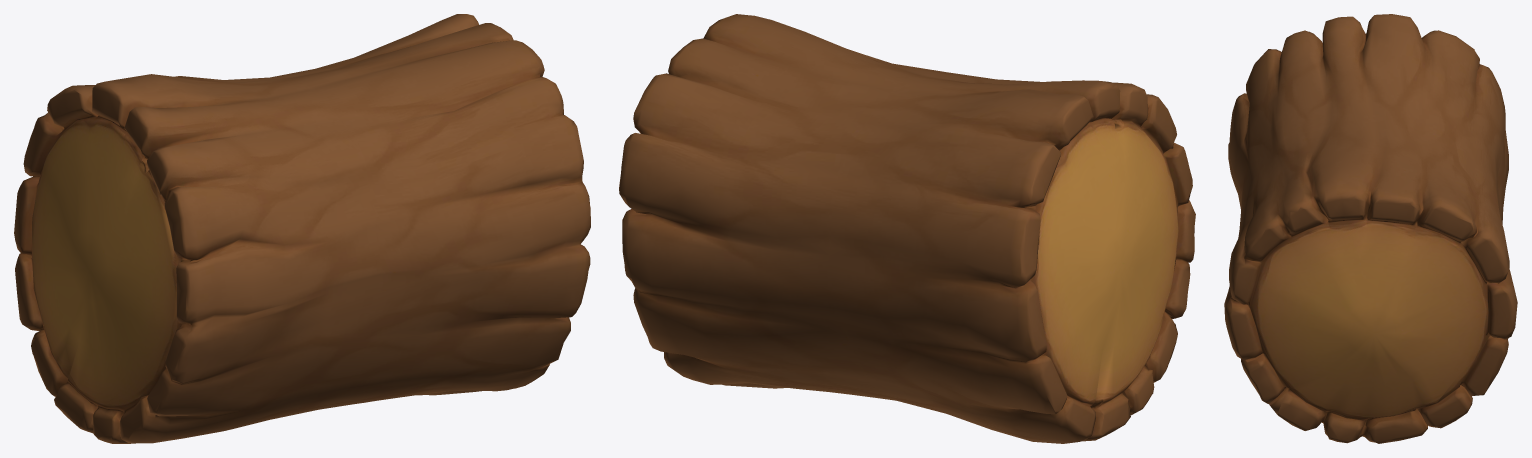
File: selected.glb
3 renders of one model, left to right at view 1: azimuth 30°, elevation 25°; view 2: azimuth 150°, elevation 25°; view 3: azimuth 270°, elevation 25°, orthographic. The views are drawn at different scales.
Visible parts, largest first — view 1: tripo_node_0ba9948b-c384-47e3-bcc2-1951bd540f65; view 2: tripo_node_0ba9948b-c384-47e3-bcc2-1951bd540f65; view 3: tripo_node_0ba9948b-c384-47e3-bcc2-1951bd540f65.
Part boxes in pixels (bbox=[...]): tripo_node_0ba9948b-c384-47e3-bcc2-1951bd540f65: bbox=[14, 14, 590, 443]; tripo_node_0ba9948b-c384-47e3-bcc2-1951bd540f65: bbox=[619, 14, 1195, 443]; tripo_node_0ba9948b-c384-47e3-bcc2-1951bd540f65: bbox=[1224, 14, 1517, 443].
Bounding box in the file's own units: 0.998 × 0.791 × 0.7168.
1 material, 1 textured.
